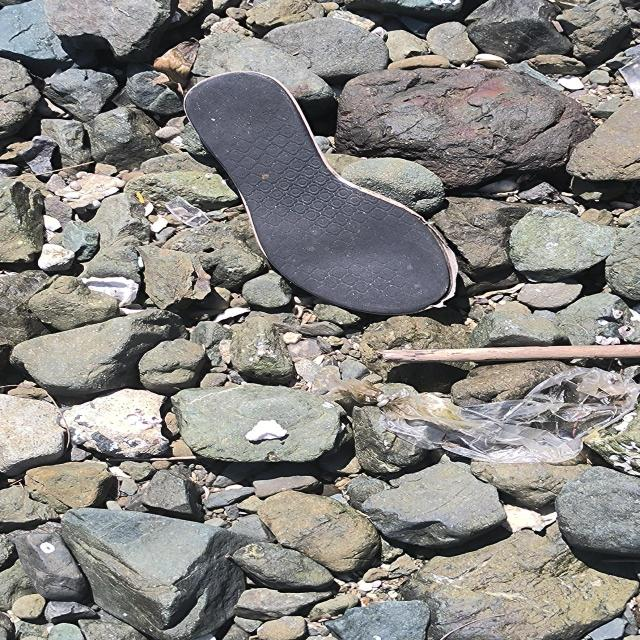rubber_waste: (184, 72, 462, 316)
